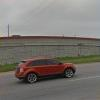Car: (12, 50, 82, 89)
